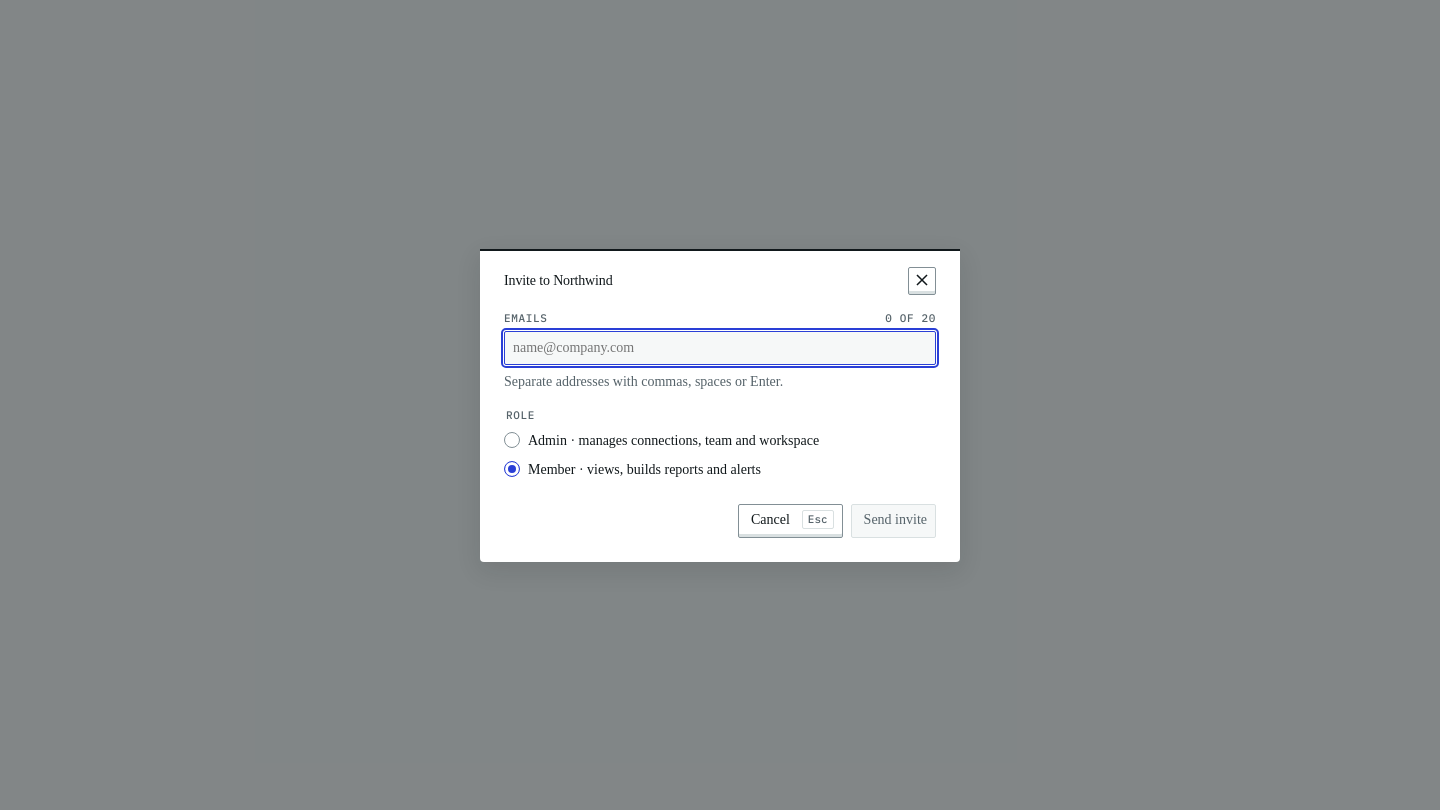
Test case: InviteDialog › sends the invitations with the chosen role
Type "sam@northwind.co" into the field labelled "Emails" at point(720, 348), box [511,336,929,360]
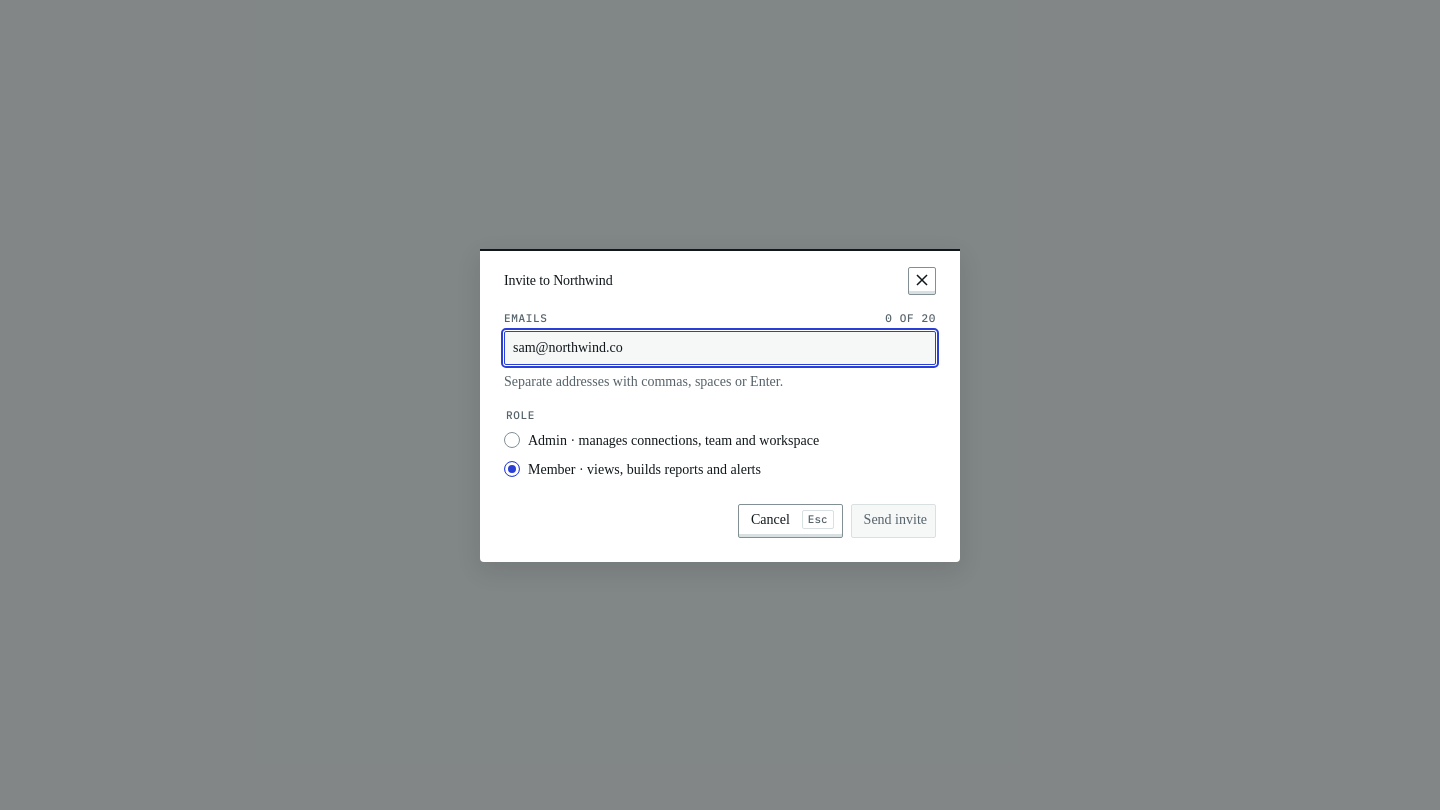
Press Enter in the field labelled "Emails", box [511,336,929,360]
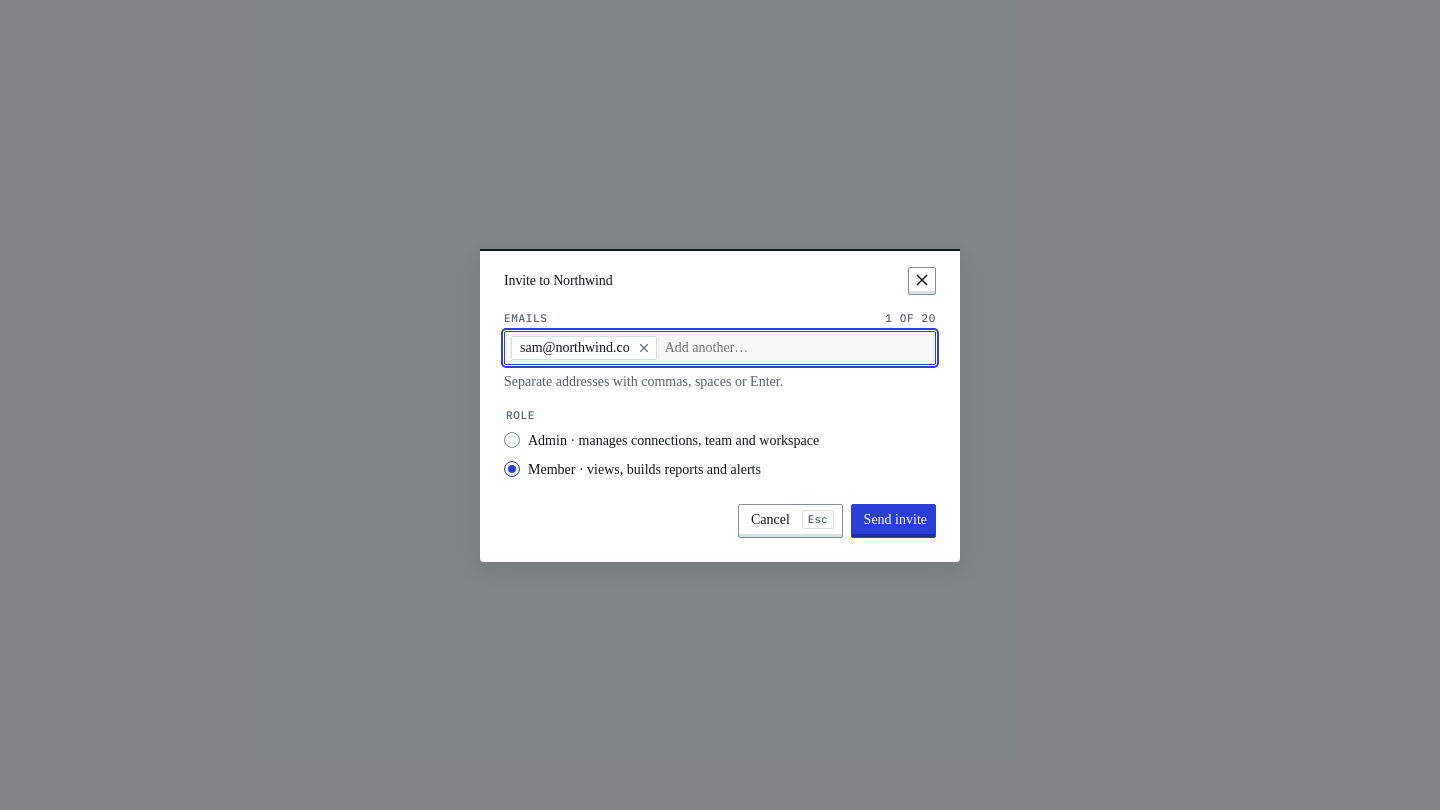
Click the radio button labelled "Admin · manages connections, team and workspace" at point(512, 440), box [504,432,520,448]
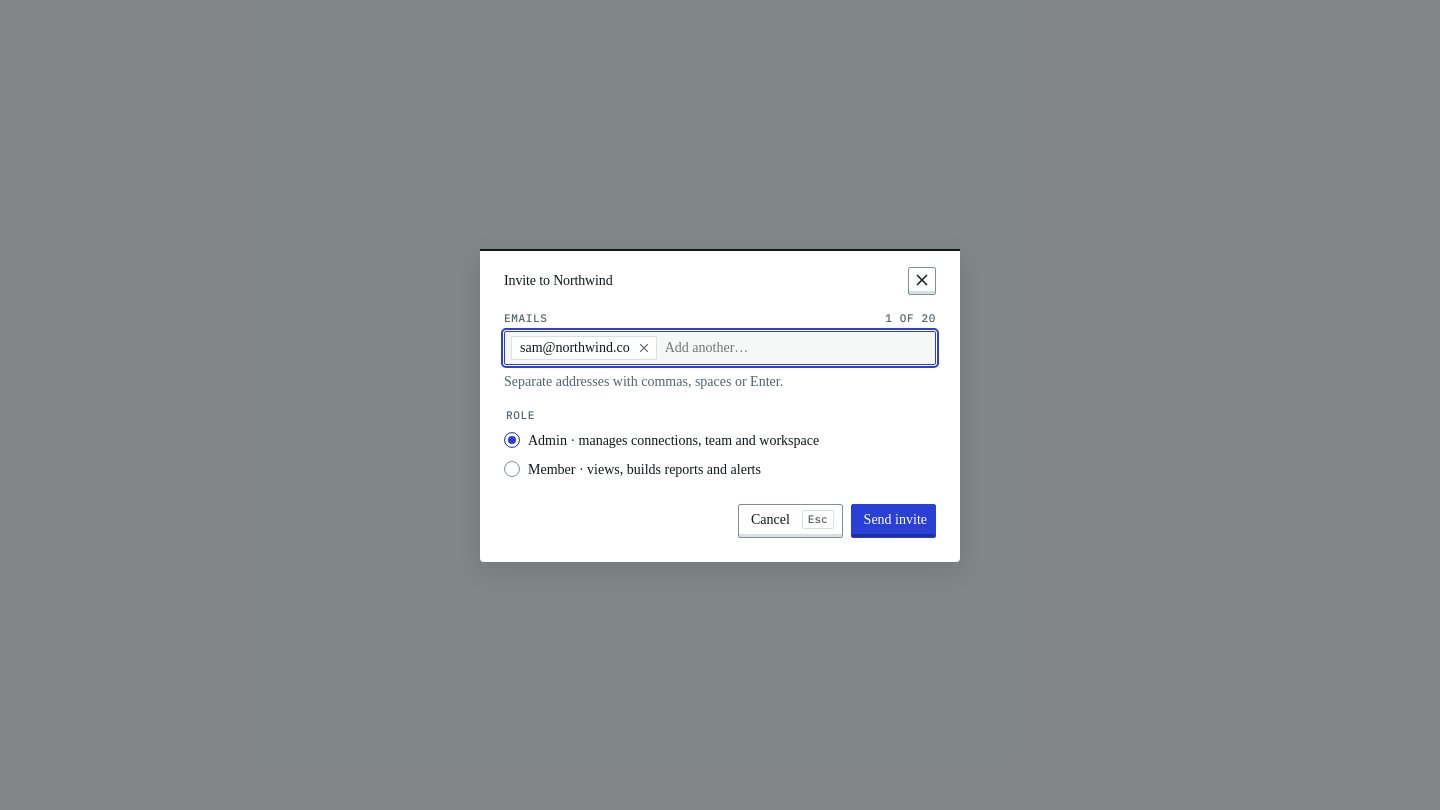
Click the button "Send invite" at point(893, 520), box [851,504,936,538]
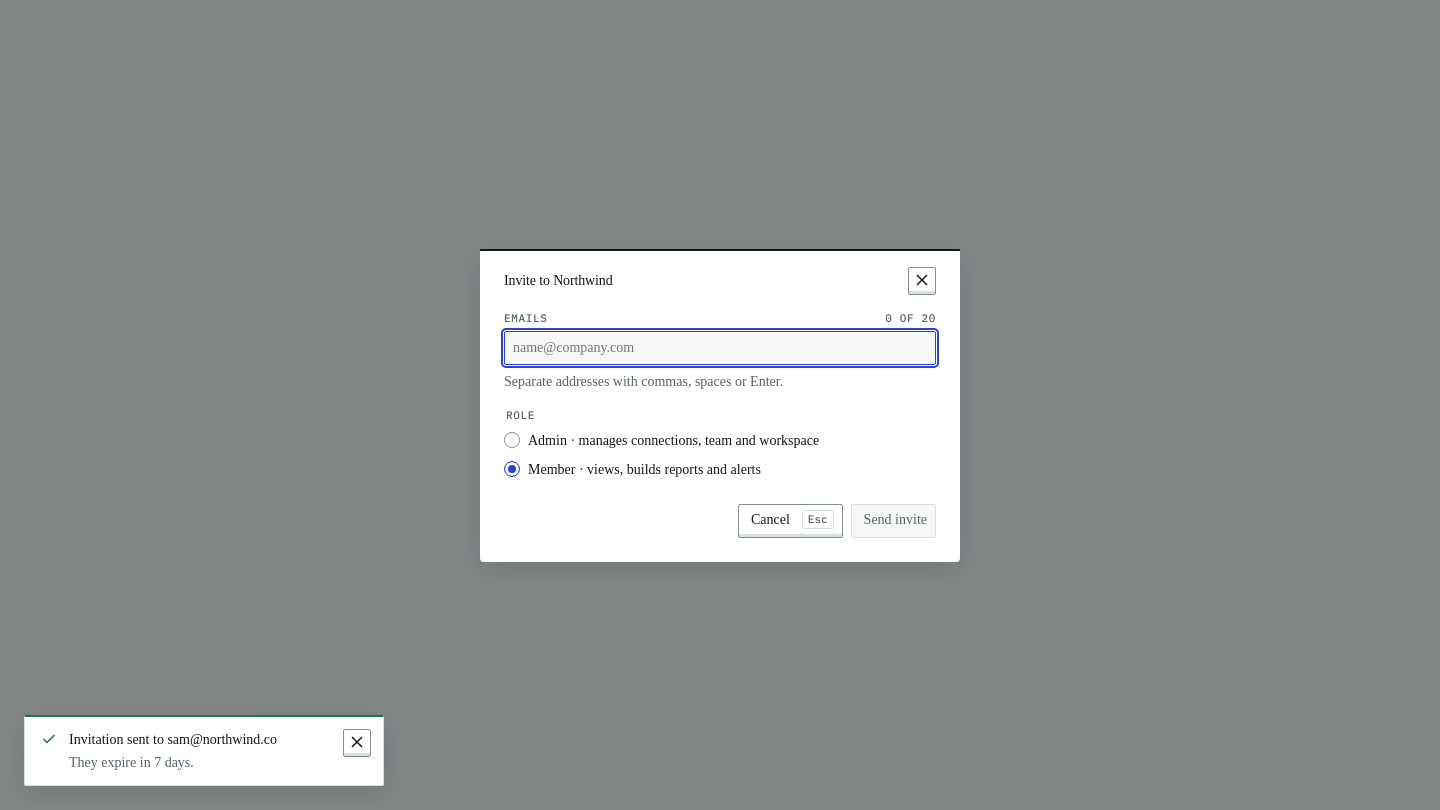
Expected: the message shows "Invitation sent to sam@northwind.co", [69,732,277,747]
